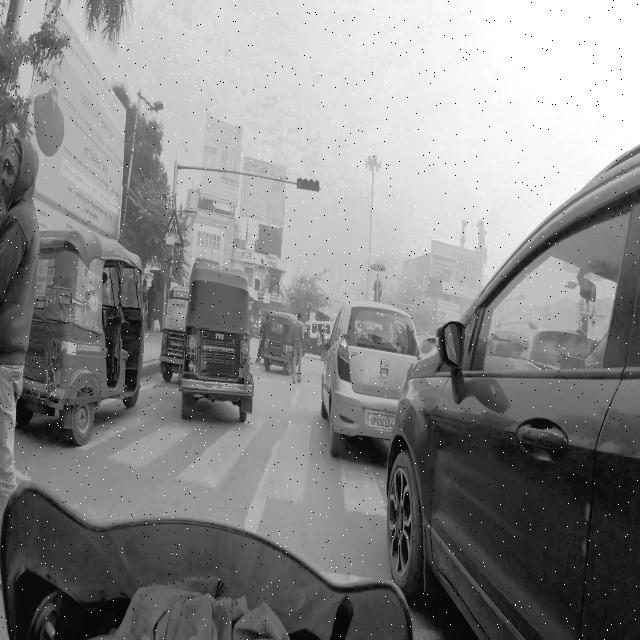Auto-Rickshaw: (19, 220, 148, 440), (181, 255, 259, 438), (159, 279, 193, 383), (265, 308, 301, 379)
Car: (390, 191, 640, 640), (319, 285, 417, 468)
